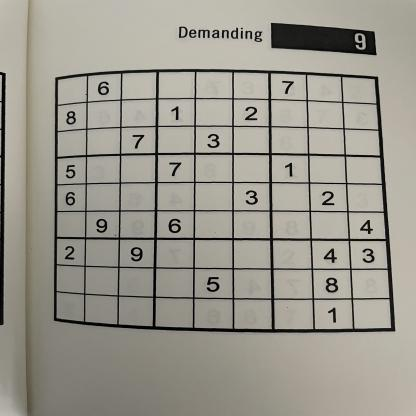sudoku: (49, 66, 400, 338)
